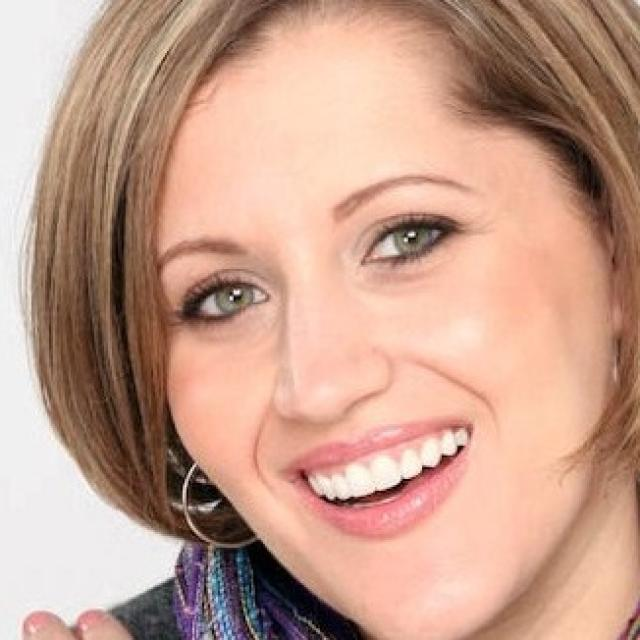Normal: (130, 13, 619, 638)
